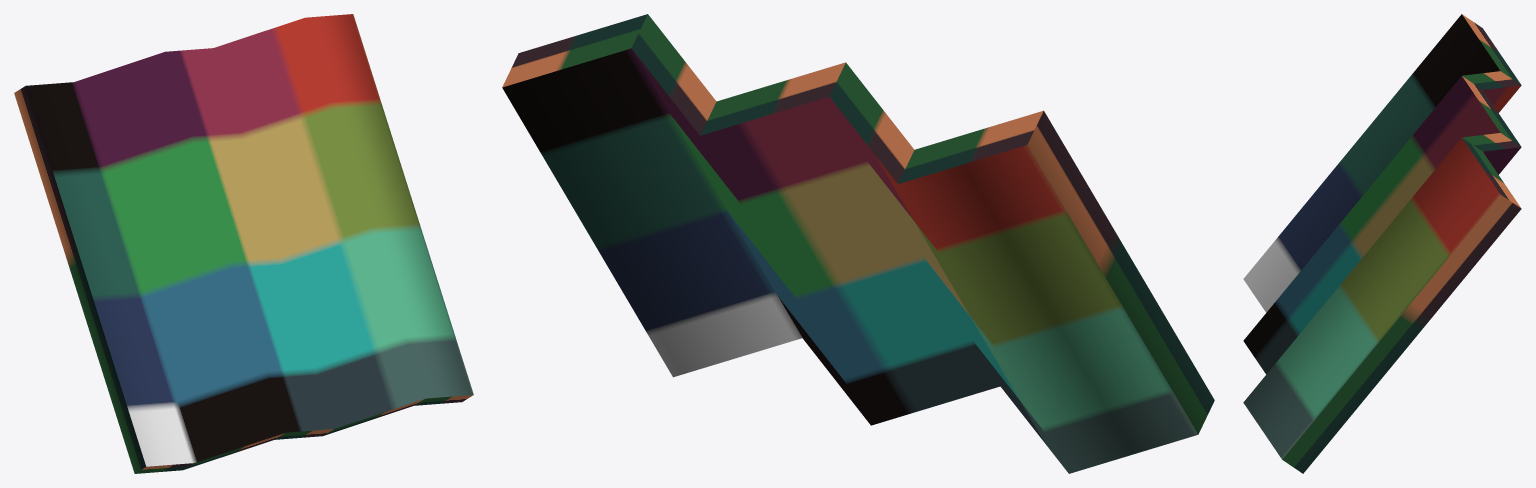
Rendered from map.fbx.
3 renders of one model, left to right at view 1: azimuth 30°, elevation 25°; view 2: azimuth 150°, elevation 25°; view 3: azimuth 270°, elevation 25°, orthographic. The views are drawn at different scales.
Visible parts, largest first — view 1: map; view 2: map; view 3: map.
Boxes of the visible parts, left/top/right/bottom form: map: left=14, top=14, right=473, bottom=473; map: left=502, top=14, right=1214, bottom=473; map: left=1243, top=14, right=1521, bottom=473.
Size of the model in its own units: 100 by 92.37 by 76.24.
Materials: 1 (1 with a texture image).
